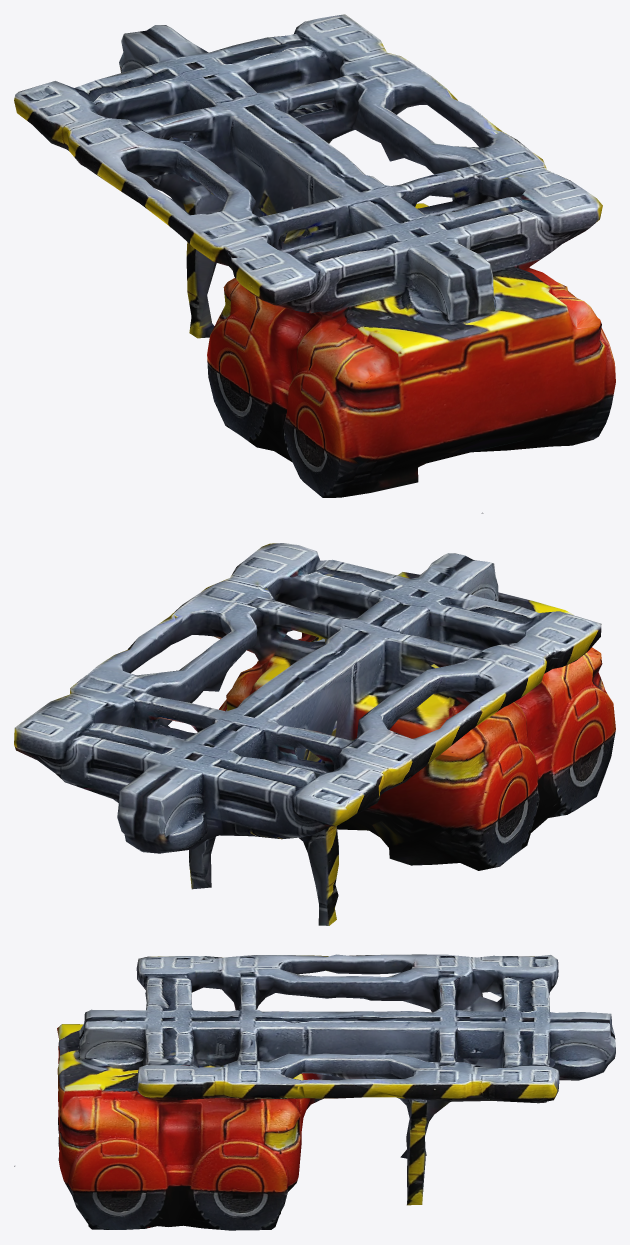
Rendered from loader-size-2.glb.
3 renders of one model, top to bottom at view 1: azimuth 30°, elevation 25°; view 2: azimuth 150°, elevation 25°; view 3: azimuth 270°, elevation 25°, orthographic. The views are drawn at different scales.
Parts seen in each view (by area): view 1: Manatee_red_single_trailers_parked; view 2: Manatee_red_single_trailers_parked; view 3: Manatee_red_single_trailers_parked.
Part boxes in pixels (x1,y1,x2,y2): Manatee_red_single_trailers_parked: (14,14,615,513); Manatee_red_single_trailers_parked: (14,543,615,925); Manatee_red_single_trailers_parked: (14,954,615,1230).
Bounding box in the file's own units: 2.39 × 1.4 × 4.61.
1 material, 1 textured.
